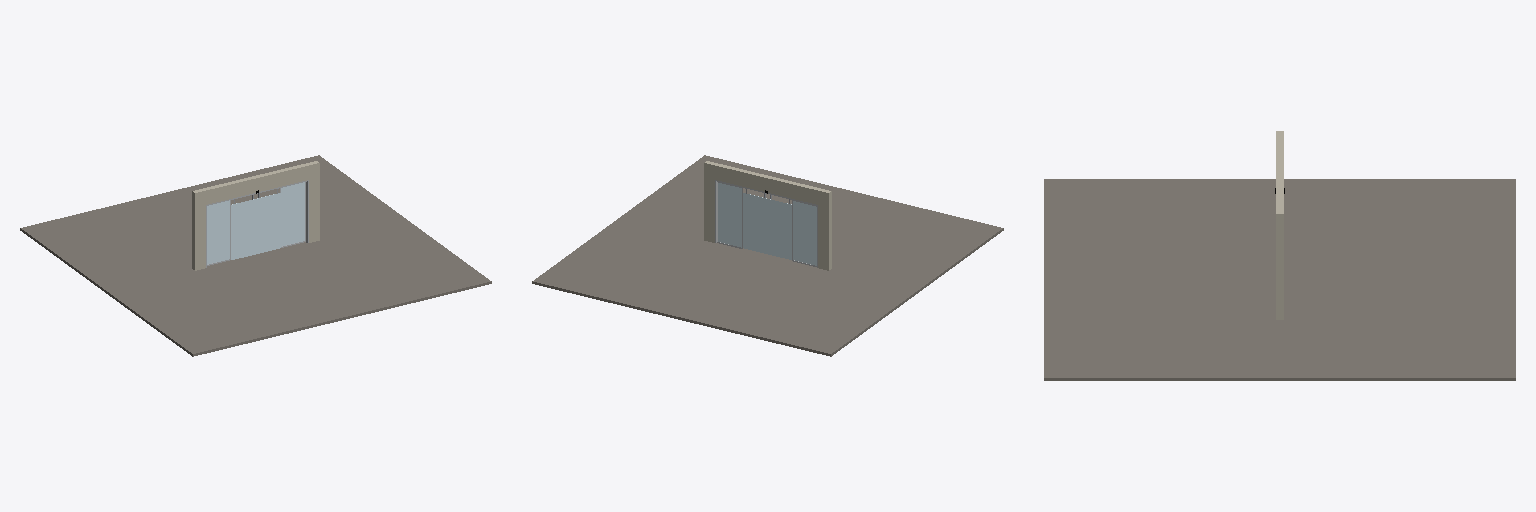
URDF robot description (db0514_automatic_sliding_simple):
<?xml version="1.0" ?>
<robot xmlns:doorbench="https://github.com/adamraudonis/DoorBench/schema/urdf-ext" name="db0514_automatic_sliding_simple">
  <link name="world_env">
    <visual name="floor_vis">
      <origin xyz="0 0 -0.05" rpy="0 0 0"/>
      <geometry>
        <box size="12 12 0.1"/>
      </geometry>
      <material name="mat_floor"/>
    </visual>
    <collision name="floor_col">
      <origin xyz="0 0 -0.05" rpy="0 0 0"/>
      <geometry>
        <box size="12 12 0.1"/>
      </geometry>
    </collision>
    <visual name="wall_left_vis">
      <origin xyz="-2.2825 0 1.492" rpy="0 0 0"/>
      <geometry>
        <box size="0.435 0.2 2.984"/>
      </geometry>
      <material name="mat_wall"/>
    </visual>
    <collision name="wall_left_col">
      <origin xyz="-2.2825 0 1.492" rpy="0 0 0"/>
      <geometry>
        <box size="0.435 0.2 2.984"/>
      </geometry>
    </collision>
    <visual name="wall_right_vis">
      <origin xyz="2.2825 0 1.492" rpy="0 0 0"/>
      <geometry>
        <box size="0.435 0.2 2.984"/>
      </geometry>
      <material name="mat_wall"/>
    </visual>
    <collision name="wall_right_col">
      <origin xyz="2.2825 0 1.492" rpy="0 0 0"/>
      <geometry>
        <box size="0.435 0.2 2.984"/>
      </geometry>
    </collision>
    <visual name="wall_header_vis">
      <origin xyz="0 0 2.7065" rpy="0 0 0"/>
      <geometry>
        <box size="4.13 0.2 0.555"/>
      </geometry>
      <material name="mat_wall"/>
    </visual>
    <collision name="wall_header_col">
      <origin xyz="0 0 2.7065" rpy="0 0 0"/>
      <geometry>
        <box size="4.13 0.2 0.555"/>
      </geometry>
    </collision>
    <visual name="jamb_l_vis">
      <origin xyz="-2.0425 0 1.192" rpy="0 0 0"/>
      <geometry>
        <box size="0.045 0.2 2.384"/>
      </geometry>
      <material name="mat_frame"/>
    </visual>
    <collision name="jamb_l_col">
      <origin xyz="-2.0425 0 1.192" rpy="0 0 0"/>
      <geometry>
        <box size="0.045 0.2 2.384"/>
      </geometry>
    </collision>
    <visual name="jamb_r_vis">
      <origin xyz="2.0425 0 1.192" rpy="0 0 0"/>
      <geometry>
        <box size="0.045 0.2 2.384"/>
      </geometry>
      <material name="mat_frame"/>
    </visual>
    <collision name="jamb_r_col">
      <origin xyz="2.0425 0 1.192" rpy="0 0 0"/>
      <geometry>
        <box size="0.045 0.2 2.384"/>
      </geometry>
    </collision>
    <visual name="jamb_head_vis">
      <origin xyz="0 0 2.4065" rpy="0 0 0"/>
      <geometry>
        <box size="4.13 0.2 0.045"/>
      </geometry>
      <material name="mat_frame"/>
    </visual>
    <collision name="jamb_head_col">
      <origin xyz="0 0 2.4065" rpy="0 0 0"/>
      <geometry>
        <box size="4.13 0.2 0.045"/>
      </geometry>
    </collision>
    <visual name="sidelite_l_vis">
      <origin xyz="-1.515 0.042 1.192" rpy="0 0 0"/>
      <geometry>
        <box size="0.97 0.006 2.284"/>
      </geometry>
      <material name="mat_fixed_glass"/>
    </visual>
    <collision name="sidelite_l_col">
      <origin xyz="-1.515 0.042 1.192" rpy="0 0 0"/>
      <geometry>
        <box size="0.97 0.006 2.284"/>
      </geometry>
    </collision>
    <visual name="sidelite_l_stile_n_vis">
      <origin xyz="-2.02 0.042 1.192" rpy="0 0 0"/>
      <geometry>
        <box size="0.04 0.024 2.384"/>
      </geometry>
      <material name="mat_frame"/>
    </visual>
    <collision name="sidelite_l_stile_n_col">
      <origin xyz="-2.02 0.042 1.192" rpy="0 0 0"/>
      <geometry>
        <box size="0.04 0.024 2.384"/>
      </geometry>
    </collision>
    <visual name="sidelite_l_stile_p_vis">
      <origin xyz="-1.01 0.042 1.192" rpy="0 0 0"/>
      <geometry>
        <box size="0.04 0.024 2.384"/>
      </geometry>
      <material name="mat_frame"/>
    </visual>
    <collision name="sidelite_l_stile_p_col">
      <origin xyz="-1.01 0.042 1.192" rpy="0 0 0"/>
      <geometry>
        <box size="0.04 0.024 2.384"/>
      </geometry>
    </collision>
    <visual name="sidelite_l_sill_vis">
      <origin xyz="-1.515 0.042 0.025" rpy="0 0 0"/>
      <geometry>
        <box size="1.05 0.024 0.05"/>
      </geometry>
      <material name="mat_frame"/>
    </visual>
    <collision name="sidelite_l_sill_col">
      <origin xyz="-1.515 0.042 0.025" rpy="0 0 0"/>
      <geometry>
        <box size="1.05 0.024 0.05"/>
      </geometry>
    </collision>
    <visual name="sidelite_l_head_vis">
      <origin xyz="-1.515 0.042 2.359" rpy="0 0 0"/>
      <geometry>
        <box size="1.05 0.024 0.05"/>
      </geometry>
      <material name="mat_frame"/>
    </visual>
    <collision name="sidelite_l_head_col">
      <origin xyz="-1.515 0.042 2.359" rpy="0 0 0"/>
      <geometry>
        <box size="1.05 0.024 0.05"/>
      </geometry>
    </collision>
    <visual name="sidelite_r_vis">
      <origin xyz="1.515 0.042 1.192" rpy="0 0 0"/>
      <geometry>
        <box size="0.97 0.006 2.284"/>
      </geometry>
      <material name="mat_fixed_glass"/>
    </visual>
    <collision name="sidelite_r_col">
      <origin xyz="1.515 0.042 1.192" rpy="0 0 0"/>
      <geometry>
        <box size="0.97 0.006 2.284"/>
      </geometry>
    </collision>
    <visual name="sidelite_r_stile_n_vis">
      <origin xyz="1.01 0.042 1.192" rpy="0 0 0"/>
      <geometry>
        <box size="0.04 0.024 2.384"/>
      </geometry>
      <material name="mat_frame"/>
    </visual>
    <collision name="sidelite_r_stile_n_col">
      <origin xyz="1.01 0.042 1.192" rpy="0 0 0"/>
      <geometry>
        <box size="0.04 0.024 2.384"/>
      </geometry>
    </collision>
    <visual name="sidelite_r_stile_p_vis">
      <origin xyz="2.02 0.042 1.192" rpy="0 0 0"/>
      <geometry>
        <box size="0.04 0.024 2.384"/>
      </geometry>
      <material name="mat_frame"/>
    </visual>
    <collision name="sidelite_r_stile_p_col">
      <origin xyz="2.02 0.042 1.192" rpy="0 0 0"/>
      <geometry>
        <box size="0.04 0.024 2.384"/>
      </geometry>
    </collision>
    <visual name="sidelite_r_sill_vis">
      <origin xyz="1.515 0.042 0.025" rpy="0 0 0"/>
      <geometry>
        <box size="1.05 0.024 0.05"/>
      </geometry>
      <material name="mat_frame"/>
    </visual>
    <collision name="sidelite_r_sill_col">
      <origin xyz="1.515 0.042 0.025" rpy="0 0 0"/>
      <geometry>
        <box size="1.05 0.024 0.05"/>
      </geometry>
    </collision>
    <visual name="sidelite_r_head_vis">
      <origin xyz="1.515 0.042 2.359" rpy="0 0 0"/>
      <geometry>
        <box size="1.05 0.024 0.05"/>
      </geometry>
      <material name="mat_frame"/>
    </visual>
    <collision name="sidelite_r_head_col">
      <origin xyz="1.515 0.042 2.359" rpy="0 0 0"/>
      <geometry>
        <box size="1.05 0.024 0.05"/>
      </geometry>
    </collision>
    <visual name="leaf_a_track_header_vis">
      <origin xyz="-0.99 0 2.519" rpy="0 0 0"/>
      <geometry>
        <box size="2.08 0.18 0.18"/>
      </geometry>
      <material name="mat_track"/>
    </visual>
    <collision name="leaf_a_track_header_col">
      <origin xyz="-0.99 0 2.519" rpy="0 0 0"/>
      <geometry>
        <box size="2.08 0.18 0.18"/>
      </geometry>
    </collision>
    <visual name="leaf_b_track_header_vis">
      <origin xyz="0.99 0 2.519" rpy="0 0 0"/>
      <geometry>
        <box size="2.08 0.18 0.18"/>
      </geometry>
      <material name="mat_track"/>
    </visual>
    <collision name="leaf_b_track_header_col">
      <origin xyz="0.99 0 2.519" rpy="0 0 0"/>
      <geometry>
        <box size="2.08 0.18 0.18"/>
      </geometry>
    </collision>
    <visual name="wave_sensor_n_vis">
      <origin xyz="0 -0.112 2.454" rpy="0 0 0"/>
      <geometry>
        <box size="0.1 0.024 0.1"/>
      </geometry>
      <material name="mat_wallreader"/>
    </visual>
    <collision name="wave_sensor_n_col">
      <origin xyz="0 -0.112 2.454" rpy="0 0 0"/>
      <geometry>
        <box size="0.1 0.024 0.1"/>
      </geometry>
    </collision>
    <visual name="wave_sensor_n_pad_vis">
      <origin xyz="0 -0.095 2.454" rpy="0 0 0"/>
      <geometry>
        <box size="0.08 0.011 0.08"/>
      </geometry>
      <material name="mat_wallreader"/>
    </visual>
    <visual name="wave_sensor_p_vis">
      <origin xyz="0 0.112 2.454" rpy="0 0 0"/>
      <geometry>
        <box size="0.1 0.024 0.1"/>
      </geometry>
      <material name="mat_wallreader"/>
    </visual>
    <collision name="wave_sensor_p_col">
      <origin xyz="0 0.112 2.454" rpy="0 0 0"/>
      <geometry>
        <box size="0.1 0.024 0.1"/>
      </geometry>
    </collision>
    <visual name="wave_sensor_p_pad_vis">
      <origin xyz="0 0.095 2.454" rpy="0 0 0"/>
      <geometry>
        <box size="0.08 0.011 0.08"/>
      </geometry>
      <material name="mat_wallreader"/>
    </visual>
  </link>
  <link name="leaf_a">
    <inertial>
      <origin xyz="0 0 1.233434" rpy="0 0 0"/>
      <mass value="38.458393"/>
      <inertia ixx="18.680514875" ixy="0" ixz="0" iyy="22.197693509" iyz="0" izz="3.518066372"/>
    </inertial>
    <visual name="leaf_a_glass_vis">
      <origin xyz="0 0 1.079" rpy="0 0 0"/>
      <geometry>
        <box size="1 0.012 2.134"/>
      </geometry>
      <material name="mat_glass_leaf"/>
    </visual>
    <collision name="leaf_a_glass_col">
      <origin xyz="0 0 1.079" rpy="0 0 0"/>
      <geometry>
        <box size="1 0.012 2.134"/>
      </geometry>
    </collision>
    <visual name="leaf_a_carrier_0_vis">
      <origin xyz="-0.38 0 2.233" rpy="0 0 0"/>
      <geometry>
        <box size="0.04 0.01 0.294"/>
      </geometry>
      <material name="mat_roller"/>
    </visual>
    <visual name="leaf_a_carrier_wheel_0_vis">
      <origin xyz="-0.38 0 2.37" rpy="-1.570796 0 0"/>
      <geometry>
        <cylinder radius="0.014" length="0.012"/>
      </geometry>
      <material name="mat_roller"/>
    </visual>
    <visual name="leaf_a_carrier_1_vis">
      <origin xyz="0.38 0 2.233" rpy="0 0 0"/>
      <geometry>
        <box size="0.04 0.01 0.294"/>
      </geometry>
      <material name="mat_roller"/>
    </visual>
    <visual name="leaf_a_carrier_wheel_1_vis">
      <origin xyz="0.38 0 2.37" rpy="-1.570796 0 0"/>
      <geometry>
        <cylinder radius="0.014" length="0.012"/>
      </geometry>
      <material name="mat_roller"/>
    </visual>
  </link>
  <link name="leaf_b">
    <inertial>
      <origin xyz="0 0 1.233434" rpy="0 0 0"/>
      <mass value="38.415607"/>
      <inertia ixx="18.65973211" ixy="0" ixz="0" iyy="22.172997753" iyz="0" izz="3.514152393"/>
    </inertial>
    <visual name="leaf_b_glass_vis">
      <origin xyz="0 0 1.079" rpy="0 0 0"/>
      <geometry>
        <box size="1 0.012 2.134"/>
      </geometry>
      <material name="mat_glass_leaf"/>
    </visual>
    <collision name="leaf_b_glass_col">
      <origin xyz="0 0 1.079" rpy="0 0 0"/>
      <geometry>
        <box size="1 0.012 2.134"/>
      </geometry>
    </collision>
    <visual name="leaf_b_carrier_0_vis">
      <origin xyz="-0.38 0 2.233" rpy="0 0 0"/>
      <geometry>
        <box size="0.04 0.01 0.294"/>
      </geometry>
      <material name="mat_roller"/>
    </visual>
    <visual name="leaf_b_carrier_wheel_0_vis">
      <origin xyz="-0.38 0 2.37" rpy="-1.570796 0 0"/>
      <geometry>
        <cylinder radius="0.014" length="0.012"/>
      </geometry>
      <material name="mat_roller"/>
    </visual>
    <visual name="leaf_b_carrier_1_vis">
      <origin xyz="0.38 0 2.233" rpy="0 0 0"/>
      <geometry>
        <box size="0.04 0.01 0.294"/>
      </geometry>
      <material name="mat_roller"/>
    </visual>
    <visual name="leaf_b_carrier_wheel_1_vis">
      <origin xyz="0.38 0 2.37" rpy="-1.570796 0 0"/>
      <geometry>
        <cylinder radius="0.014" length="0.012"/>
      </geometry>
      <material name="mat_roller"/>
    </visual>
  </link>
  <joint name="leaf_a_slide" type="prismatic">
    <origin xyz="-0.5 0 0" rpy="0 0 0"/>
    <parent link="world_env"/>
    <child link="leaf_a"/>
    <axis xyz="-1 0 0"/>
    <limit lower="0" upper="0.98" effort="5000" velocity="10"/>
    <dynamics damping="3.9231" friction="5.884061"/>
  </joint>
  <joint name="leaf_b_slide" type="prismatic">
    <origin xyz="0.5 0 0" rpy="0 0 0"/>
    <parent link="world_env"/>
    <child link="leaf_b"/>
    <axis xyz="1 0 0"/>
    <limit lower="0" upper="0.98" effort="5000" velocity="10"/>
    <dynamics damping="3.9231" friction="5.884061"/>
    <mimic joint="leaf_a_slide" multiplier="1" offset="0"/>
  </joint>
  <material name="mat_fixed_glass">
    <color rgba="0.85 0.92 0.95 0.25"/>
  </material>
  <material name="mat_floor">
    <color rgba="0.55 0.53 0.5 1"/>
  </material>
  <material name="mat_frame">
    <color rgba="0.75 0.76 0.77 1"/>
  </material>
  <material name="mat_glass_leaf">
    <color rgba="0.85 0.92 0.95 0.25"/>
  </material>
  <material name="mat_roller">
    <color rgba="0.65 0.66 0.68 1"/>
  </material>
  <material name="mat_track">
    <color rgba="0.8 0.81 0.83 1"/>
  </material>
  <material name="mat_wall">
    <color rgba="0.78 0.76 0.7 1"/>
  </material>
  <material name="mat_wallreader">
    <color rgba="0.05 0.05 0.05 1"/>
  </material>
</robot>

--- Render facts (derived) ---
The picture shows the robot from 3 angles, left to right: view 1: azimuth 30°, elevation 25°; view 2: azimuth 150°, elevation 25°; view 3: azimuth 270°, elevation 25°; orthographic projection.
Model db0514_automatic_sliding_simple with 3 links and 2 joints (2 prismatic), rooted at world_env, posed every joint at zero.
Links seen in each view (by area): view 1: world_env, leaf_a, leaf_b; view 2: world_env, leaf_b, leaf_a; view 3: world_env.
Link boxes in pixels (x1,y1,x2,y2): world_env: (20, 155, 491, 356); leaf_a: (231, 195, 255, 259); leaf_b: (256, 189, 280, 253); world_env: (532, 155, 1003, 356); leaf_b: (743, 189, 767, 253); leaf_a: (768, 195, 791, 259); world_env: (1044, 131, 1515, 380).
Size in the robot's own frame: 12 by 12 by 3.08 metres.
Geometry: primitives only (box / cylinder / sphere), no mesh files.
